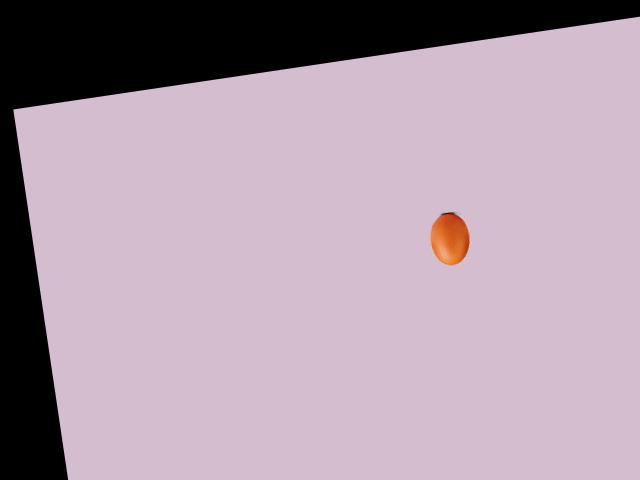egg: (428, 210, 473, 267)
